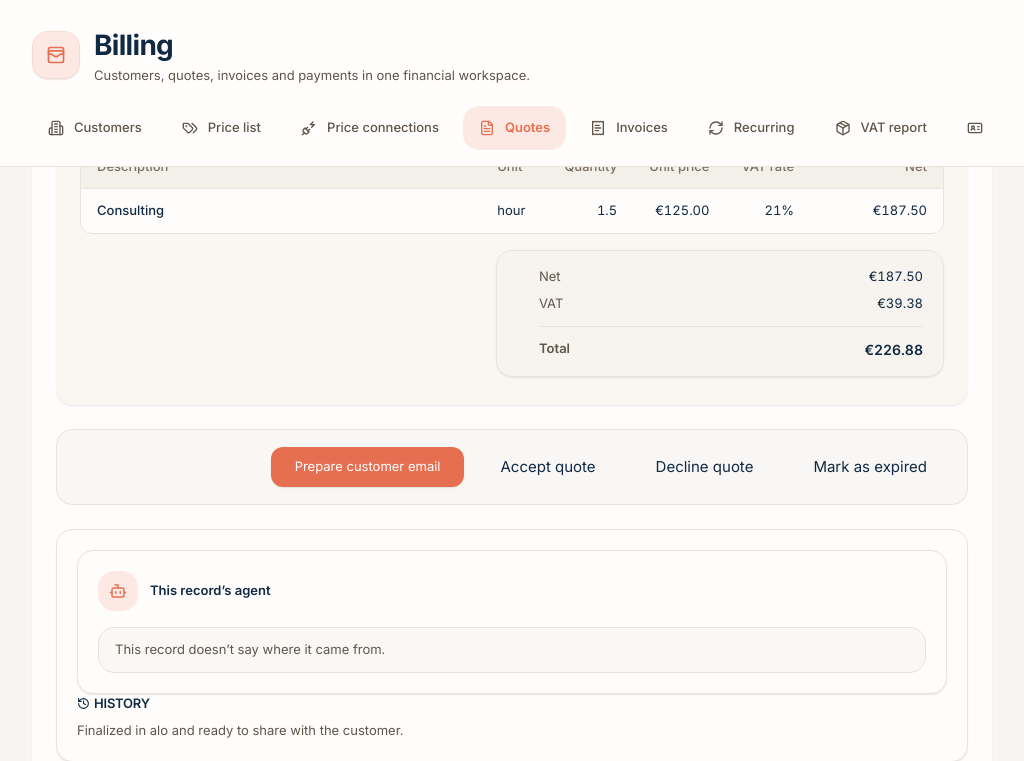
Test: the offer's transitions › accepting closes the offer and lands on the draft invoice it raised
(page scrolled)
Expected: the text "Finalized in alo and ready to share with the customer." is shown, [77, 722, 404, 738]
Click the button "Accept quote". click: (548, 467)
box: [476, 446, 620, 488]
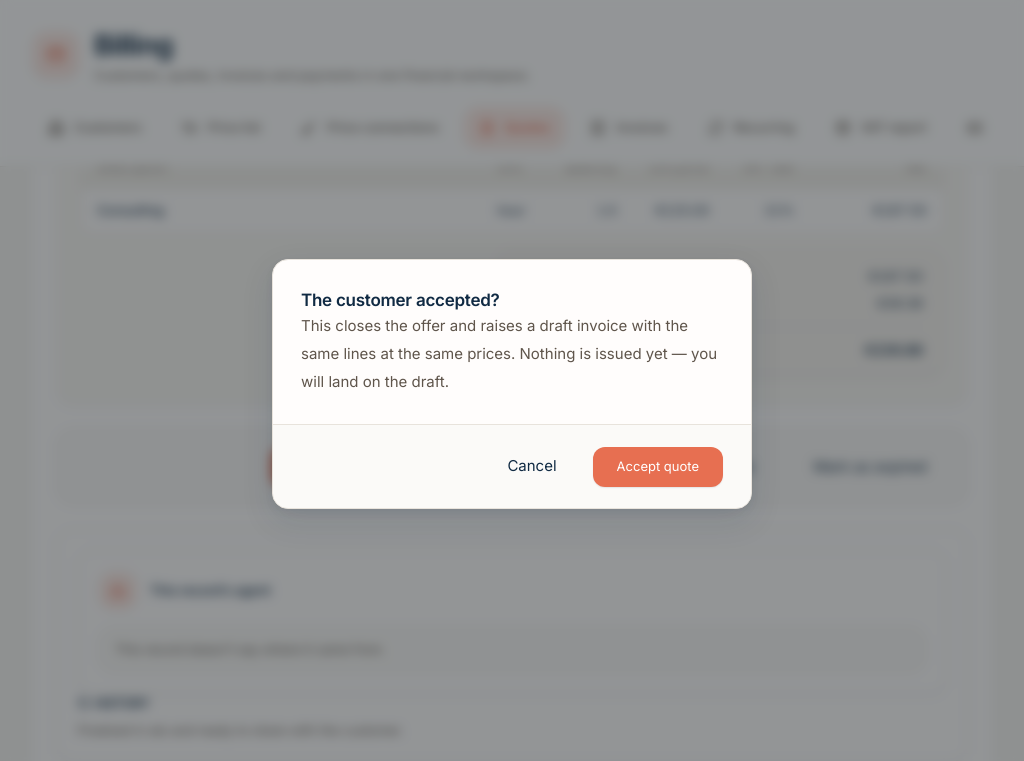
Now the text "This closes the offer and raises a draft invoice with the same lines at the same prices. Nothing is issued yet — you wil" is shown, box [301, 316, 721, 391]
Click the button "Accept quote". click: (658, 466)
box: [593, 446, 723, 486]
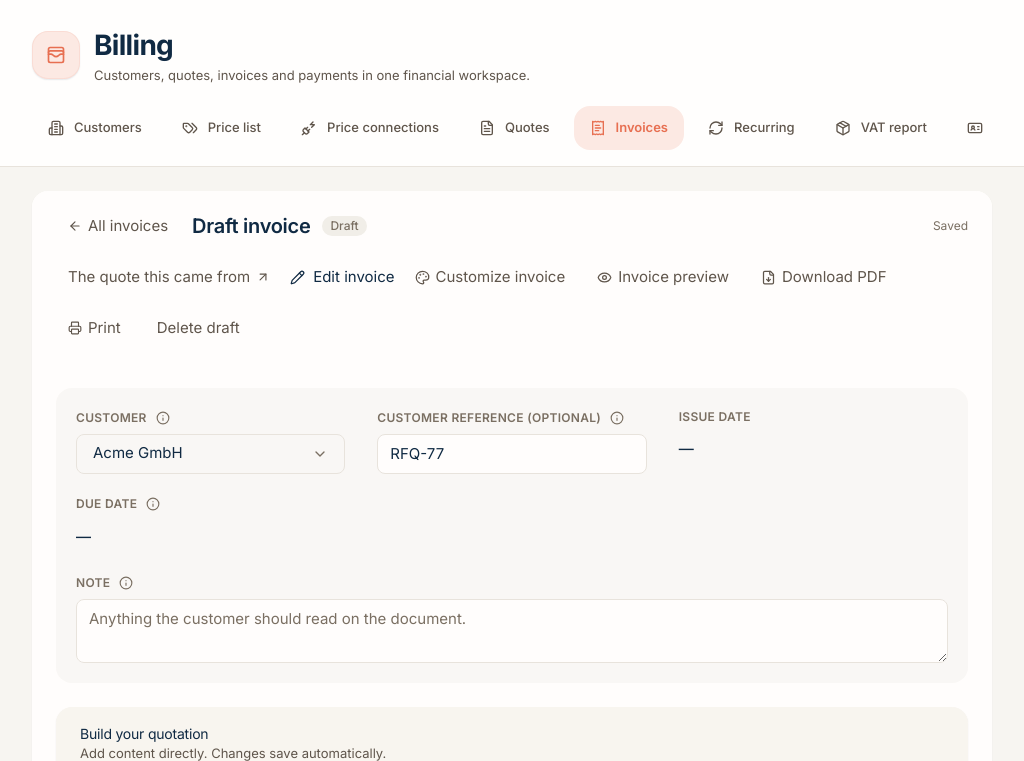
Now the heading "Draft invoice" is shown, box [192, 211, 310, 241]
Click the button "The quote this came from". click: (169, 277)
box: [56, 258, 282, 296]
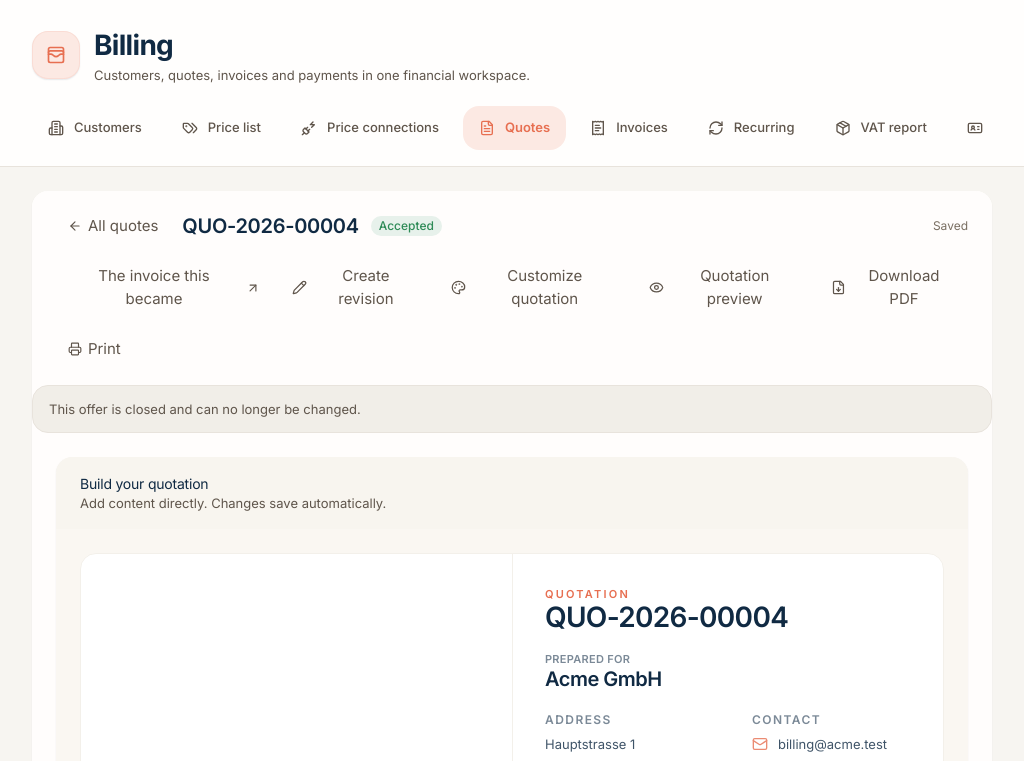
Now the heading "QUO-2026-00004" is shown, box [182, 211, 359, 241]
Now the text "Accepted" is shown, box [371, 216, 442, 236]
